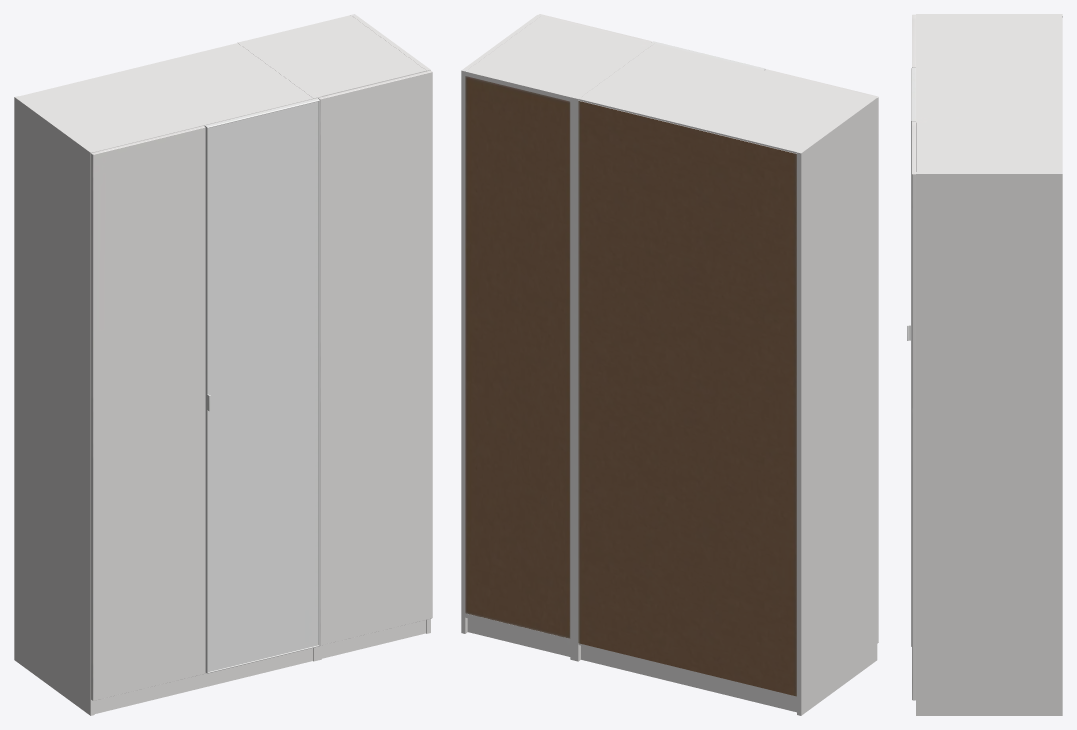
The model's file is pax_fardal_aheim_kombinacja_szafy_89395574.glb.
The picture shows the model from 3 angles, left to right: view 1: azimuth 30°, elevation 25°; view 2: azimuth 150°, elevation 25°; view 3: azimuth 270°, elevation 25°; orthographic projection. The views are drawn at different scales.
Visible parts, largest first — view 1: pax_fardal_aheim_kombinacja_szafy_89395574; view 2: pax_fardal_aheim_kombinacja_szafy_89395574; view 3: pax_fardal_aheim_kombinacja_szafy_89395574.
Part boxes in pixels (left/top/right/bottom): pax_fardal_aheim_kombinacja_szafy_89395574: left=14, top=14, right=432, bottom=715; pax_fardal_aheim_kombinacja_szafy_89395574: left=461, top=14, right=878, bottom=715; pax_fardal_aheim_kombinacja_szafy_89395574: left=907, top=14, right=1062, bottom=715.
Bounding box in the file's own units: 1.5 × 2.36 × 0.6147.
1 material, 1 textured.
